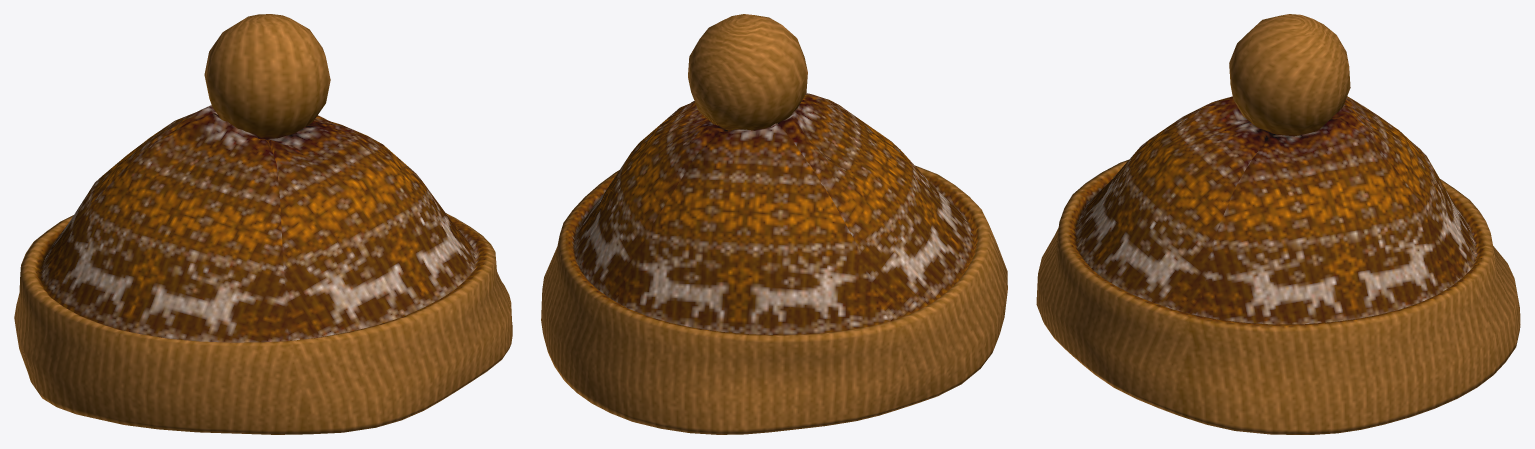
Rendered from ChristmasRoom_HatA.fbx.
3 renders of one model, left to right at view 1: azimuth 30°, elevation 25°; view 2: azimuth 150°, elevation 25°; view 3: azimuth 270°, elevation 25°, orthographic. The views are drawn at different scales.
Parts seen in each view (by area): view 1: ChristmasRoom_HatA; view 2: ChristmasRoom_HatA; view 3: ChristmasRoom_HatA.
Part boxes in pixels (x1,y1,x2,y2): ChristmasRoom_HatA: (14, 14, 512, 434); ChristmasRoom_HatA: (541, 14, 1007, 434); ChristmasRoom_HatA: (1036, 14, 1520, 434).
Bounding box in the file's own units: 24.16 × 17.94 × 23.93.
